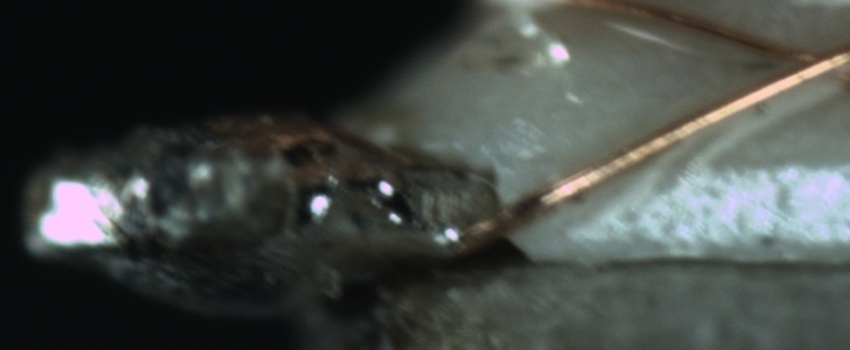CL: (749, 30, 848, 94)
